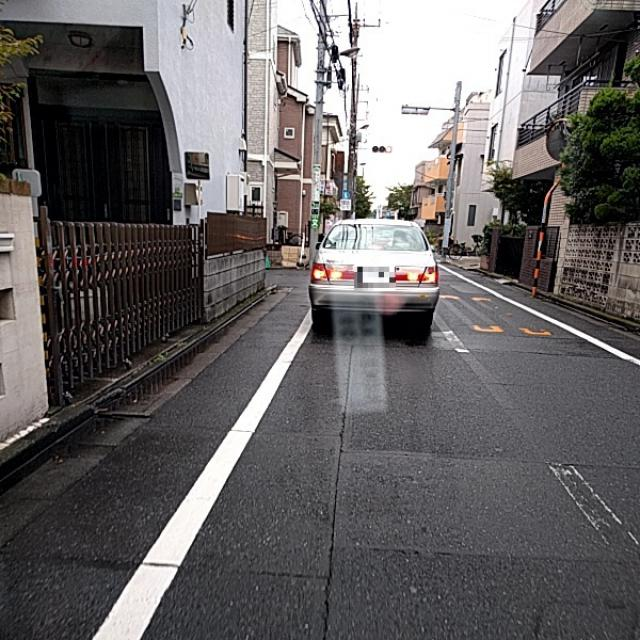pothole: (280, 503, 358, 639)
